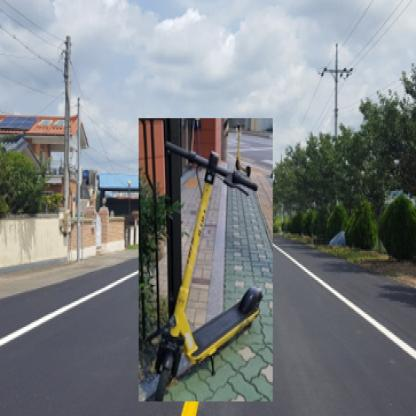kickboard: (155, 141, 262, 400)
